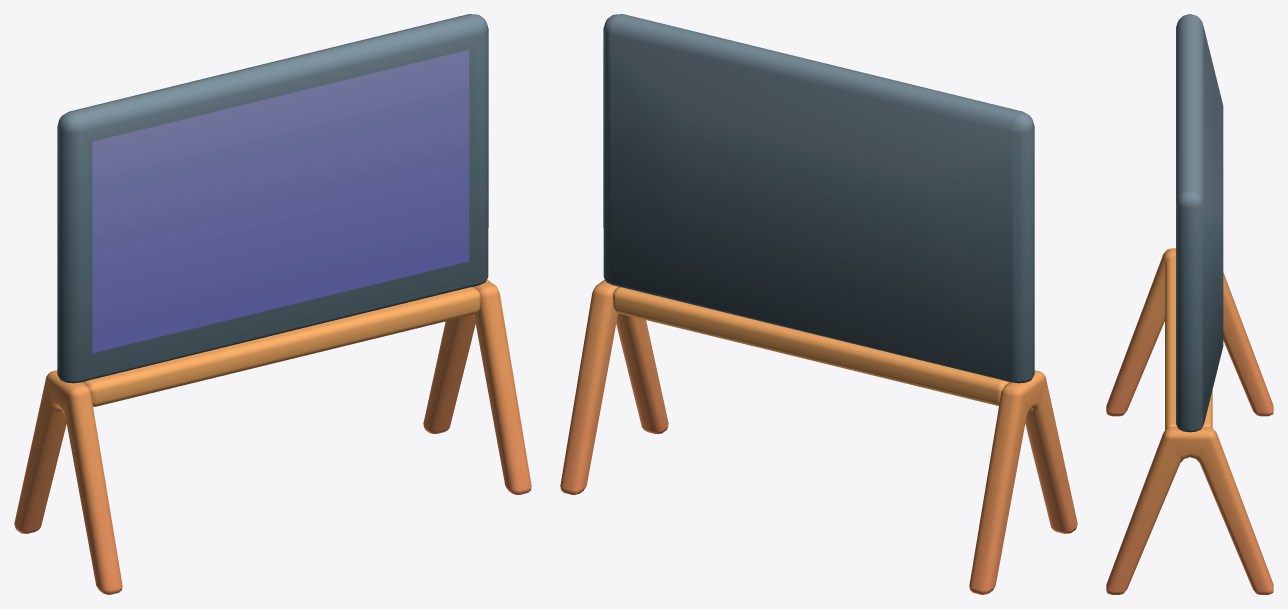
The picture shows the model from 3 angles, left to right: view 1: azimuth 30°, elevation 25°; view 2: azimuth 150°, elevation 25°; view 3: azimuth 270°, elevation 25°; orthographic projection. The views are drawn at different scales.
Visible parts, largest first — view 1: TV_03; view 2: TV_03; view 3: TV_03.
Part boxes in pixels (x1,y1,x2,y2): TV_03: (14,14,531,594); TV_03: (560,14,1077,594); TV_03: (1106,14,1273,594).
Size of the model in its own units: 0.9469 by 0.9425 by 0.3567.
Materials: 1 (1 with a texture image).
